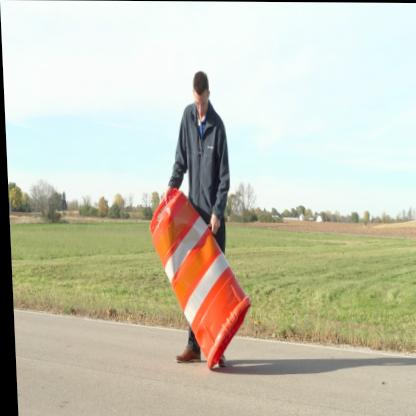obstacle: (141, 185, 250, 383)
